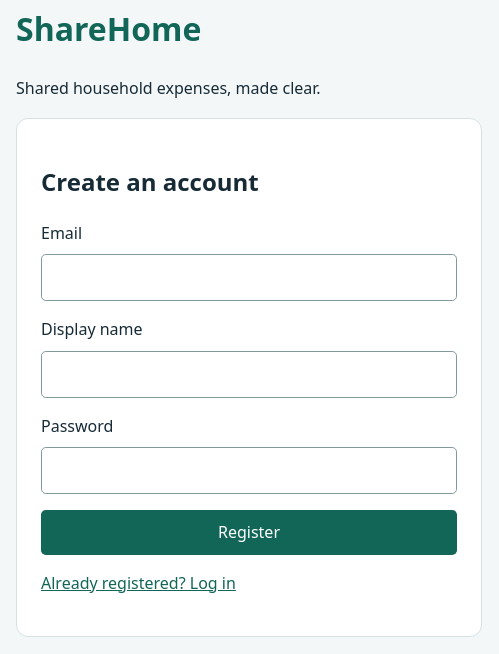
Test: handles registration HTTP 409 safely
This screenshot has width=499, height=654.
Type "alex@example.com" into the field labelled "Email".
click(249, 278); type("alex@example.com")  # box [41,254,457,301]
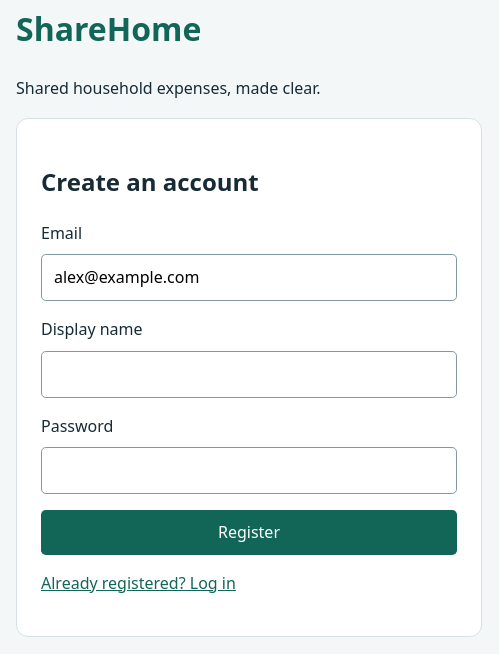
Type "test-password" into the password field labelled "Password".
click(249, 471); type("test-password")  # box [41,447,457,494]
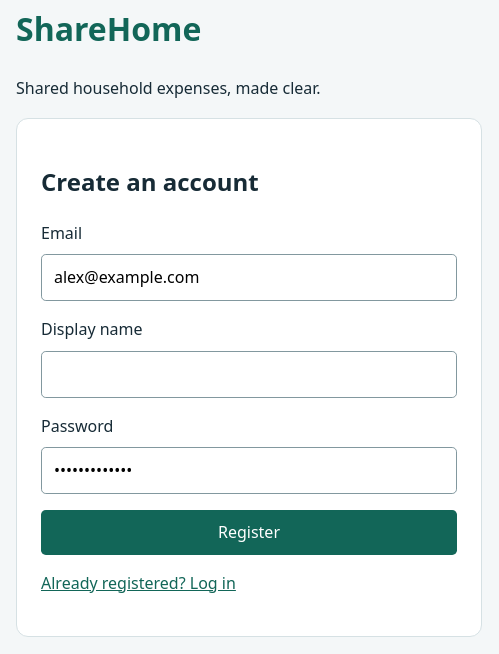
Type "Alex" into the field labelled "Display name".
click(249, 374); type("Alex")  # box [41,351,457,398]
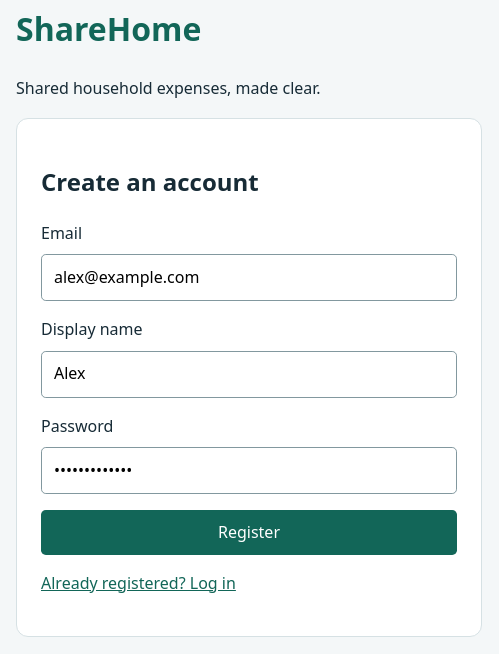
Click the button "Register".
click(249, 532)  # box [41,510,457,555]
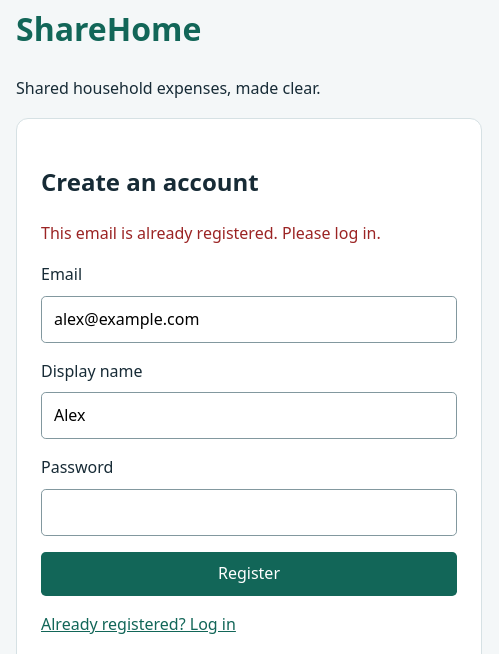
Now the message reads "This email is already registered. Please log in.", box [41,222,381,244]
Now the password field labelled "Password" is empty, box [41,489,457,536]
